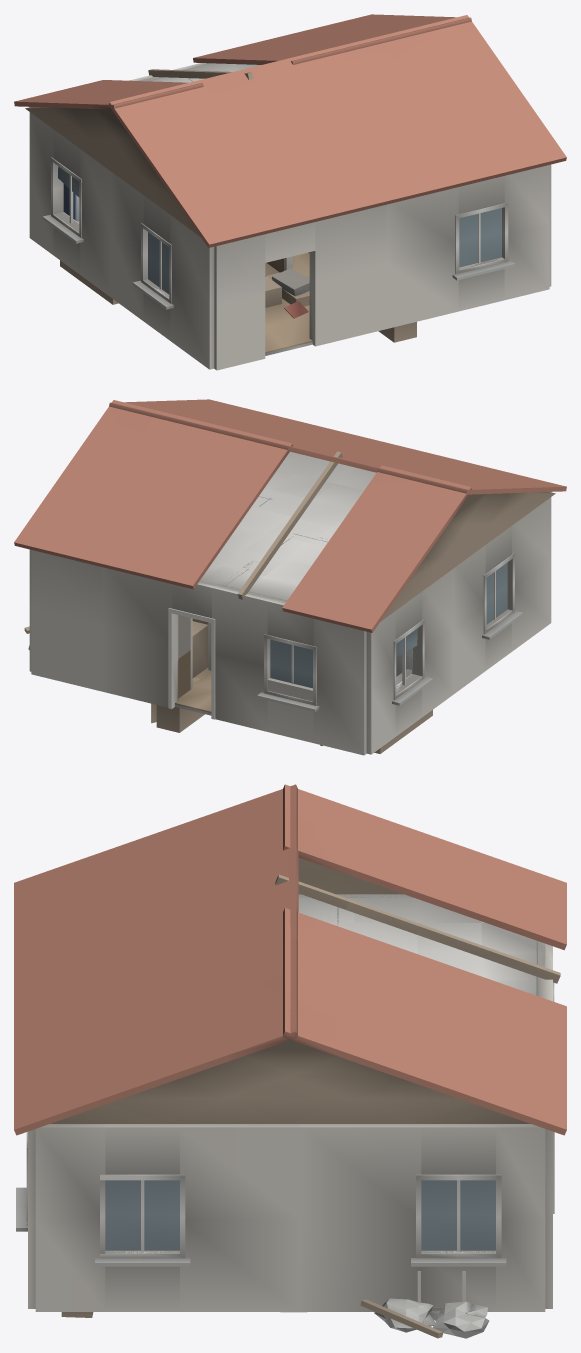
File: casa_r12.glb
3 views of the same model, one above another, from view 1: azimuth 30°, elevation 25°; view 2: azimuth 150°, elevation 25°; view 3: azimuth 270°, elevation 25° (orthographic). The views are drawn at different scales.
Parts seen in each view (by area): view 1: longe, ext, detalhe, dentro, tv_sala, guarda_roupa_quarto1; view 2: longe, ext, dentro, detalhe, guarda_roupa_quarto2, balcao_cozinha0; view 3: longe, ext, detalhe, dentro.
Part boxes in pixels (bbox=[...]): longe: bbox=[14, 14, 566, 247]; ext: bbox=[29, 63, 551, 370]; detalhe: bbox=[42, 157, 514, 309]; dentro: bbox=[64, 63, 312, 355]; tv_sala: bbox=[265, 268, 309, 306]; guarda_roupa_quarto1: bbox=[378, 322, 416, 342]; longe: bbox=[14, 399, 566, 632]; ext: bbox=[29, 497, 551, 755]; dentro: bbox=[175, 451, 411, 715]; detalhe: bbox=[24, 553, 523, 719]; guarda_roupa_quarto2: bbox=[151, 621, 208, 732]; balcao_cozinha0: bbox=[374, 669, 432, 753]; longe: bbox=[14, 784, 566, 1135]; ext: bbox=[28, 894, 552, 1311]; detalhe: bbox=[16, 982, 554, 1338]; dentro: bbox=[298, 894, 545, 995].
Size of what is drawn, in the model's own units: 9.44 by 5.61 by 8.14.
